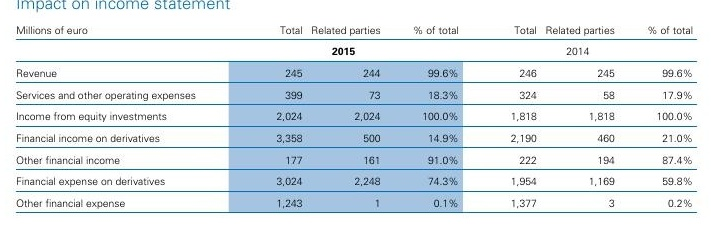table: (0, 0, 711, 233)
